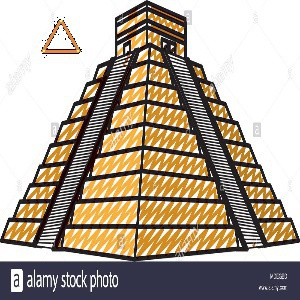triangle: (39, 16, 84, 56)
